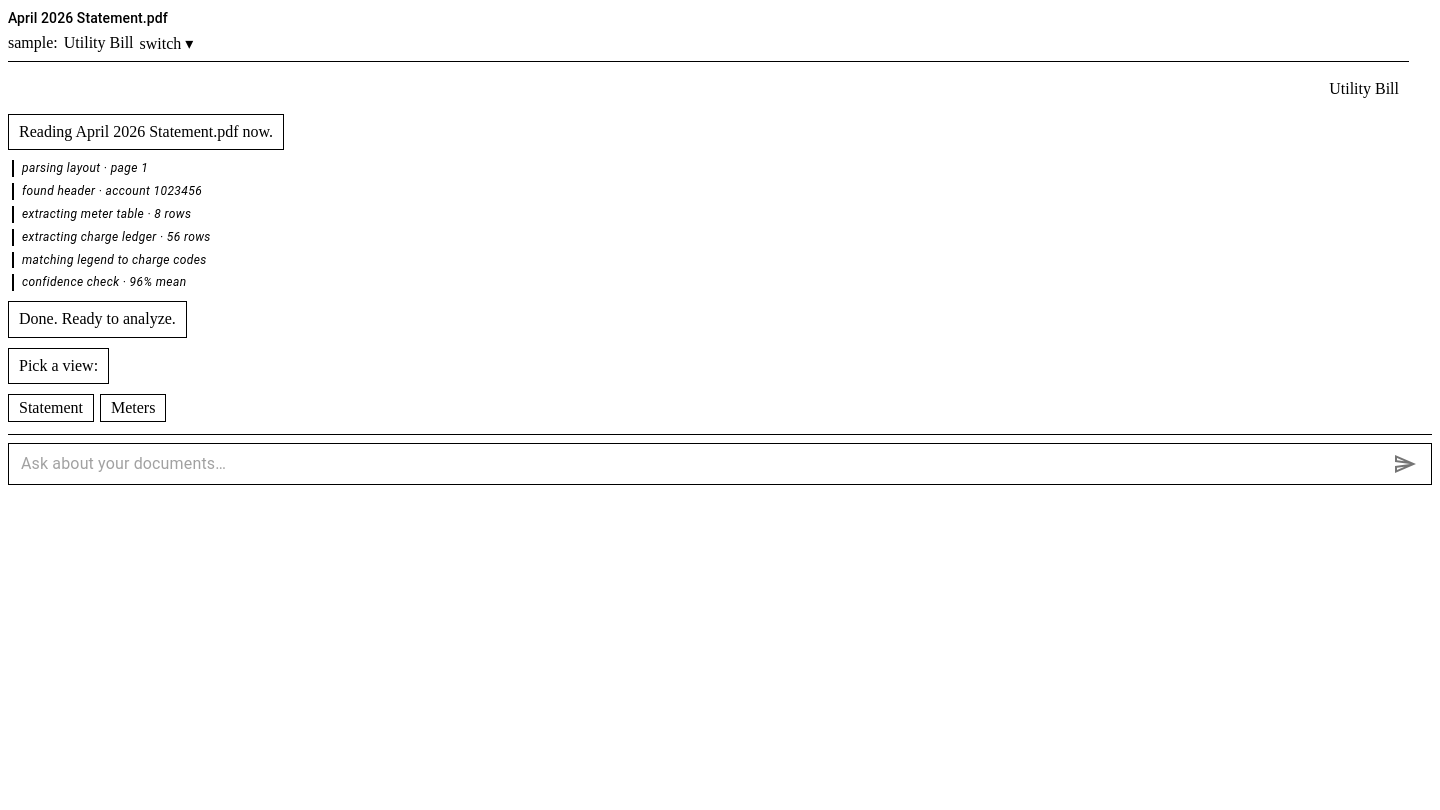
it: ChatColumn › chat input (CF-18) › submitting a question posts via sendChatMessage and renders the assistant reply
The width and height of the screenshot is (1440, 810).
Step 1. Type "What is the bill total?" into the field with placeholder "Ask about your documents…" → (702, 464), box [21,448,1383,480]
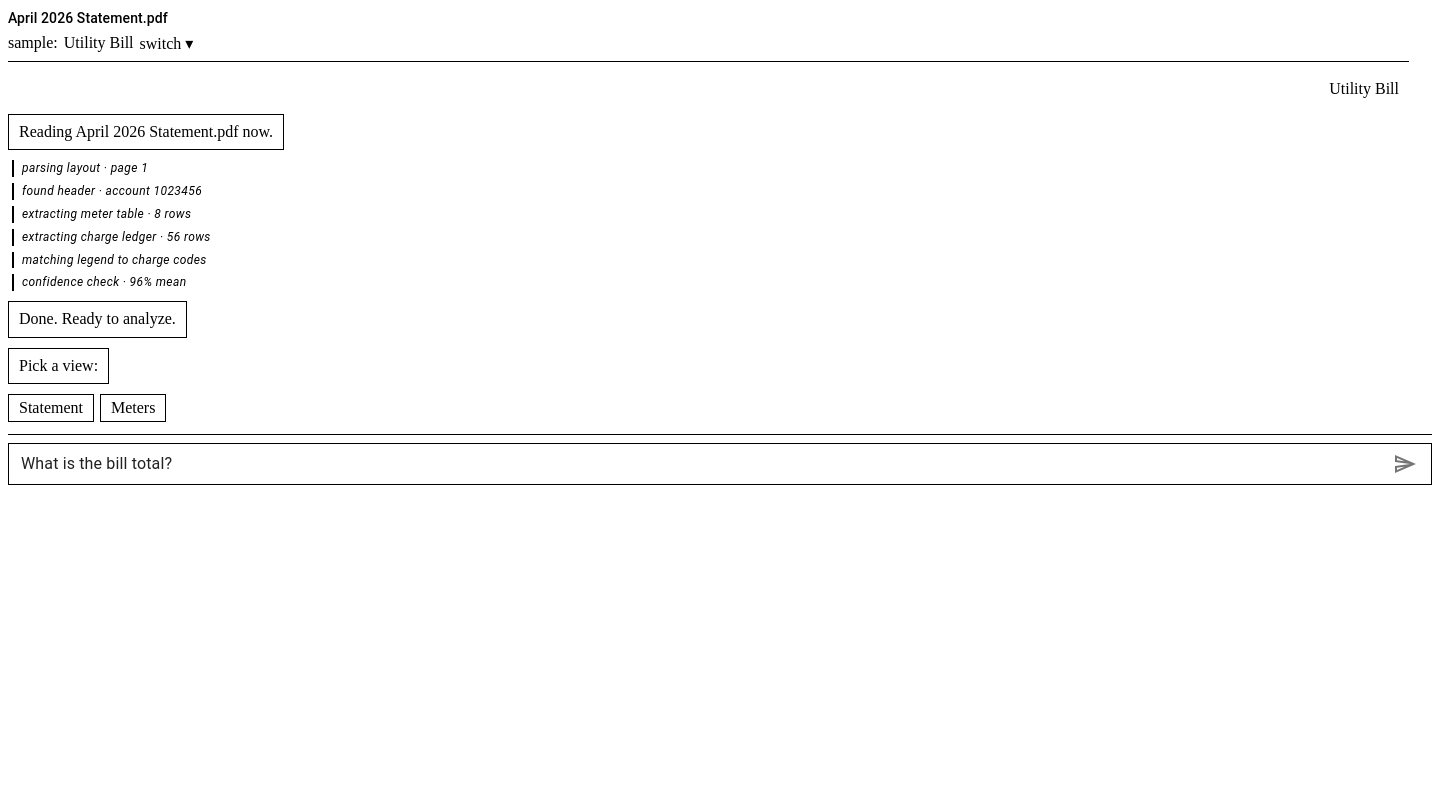
Step 2. Click the button with test id "chat-live-send" → (1405, 464), box [1391,450,1419,478]
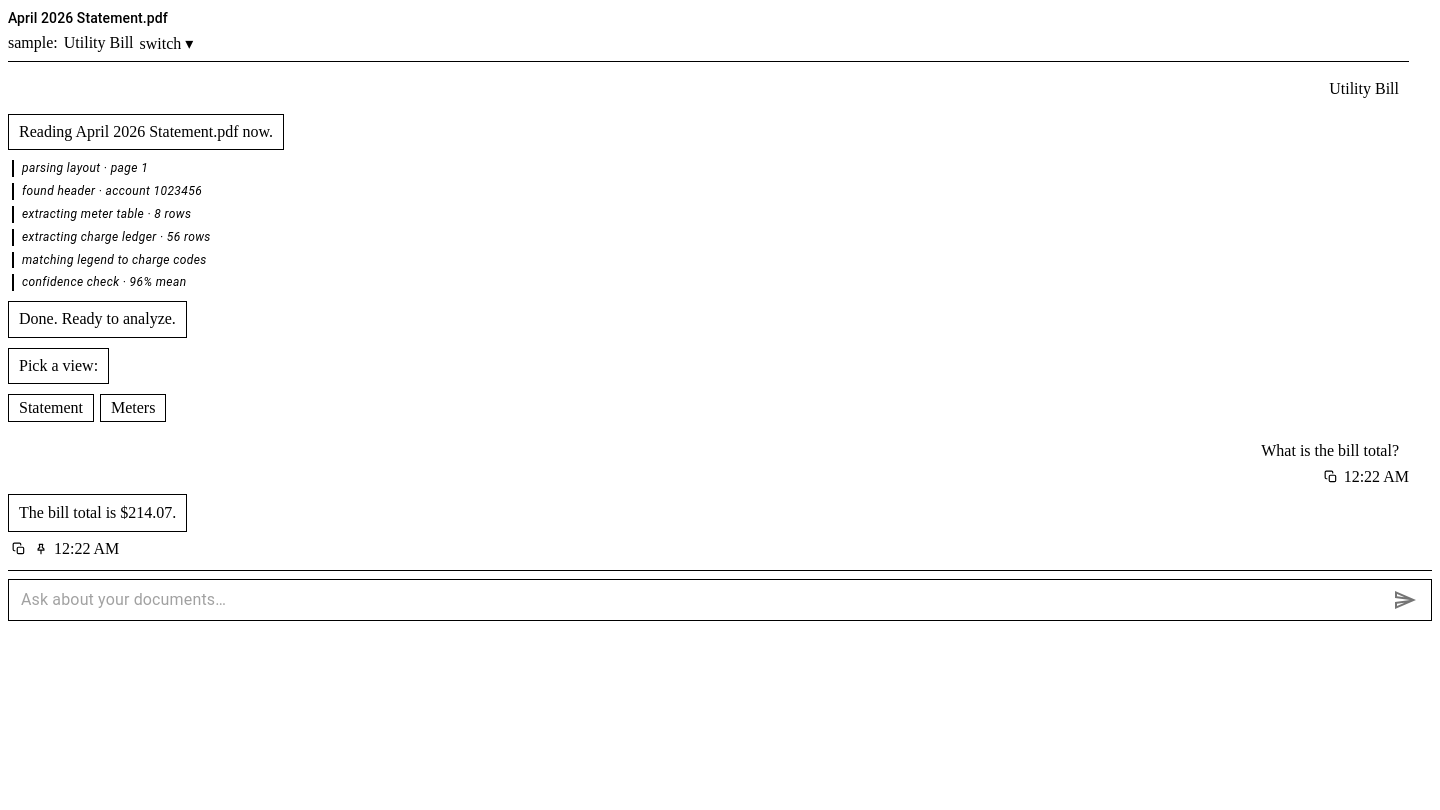
Now the text with test id "chat-live-user" reads "What is the bill total?", box [1261,442,1399,459]
Now the element with test id "chat-live-assistant" reads "The bill total is $214.07.", box [19,504,176,521]
